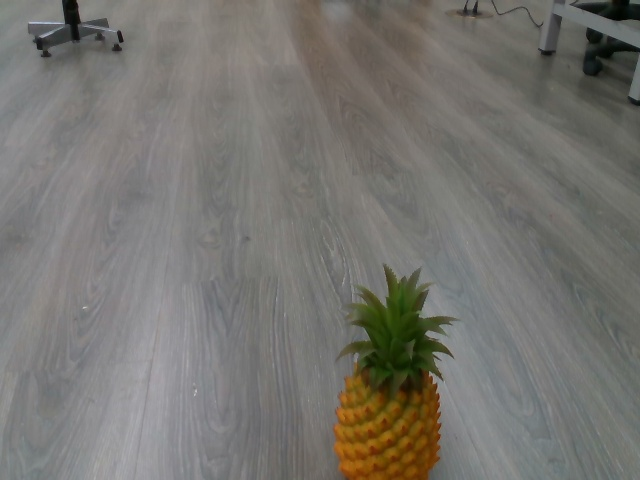pineapple: (328, 261, 460, 480)
